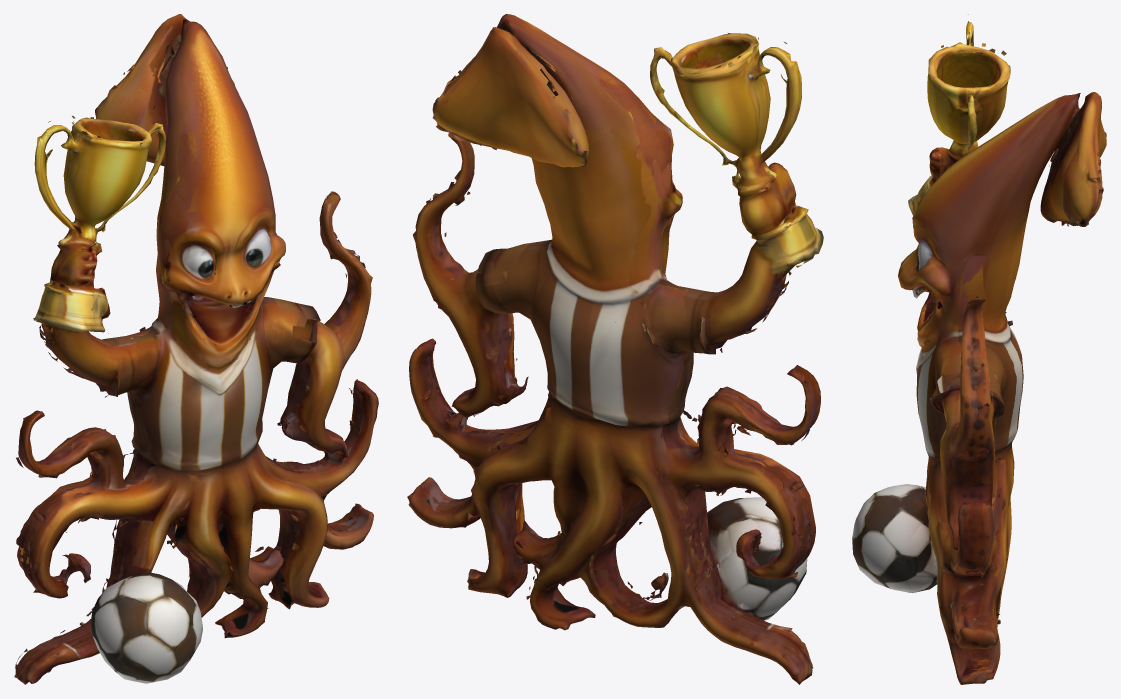
File: asset.glb
3 renders of one model, left to right at view 1: azimuth 30°, elevation 25°; view 2: azimuth 150°, elevation 25°; view 3: azimuth 270°, elevation 25°, orthographic. The views are drawn at different scales.
Bounding box in the file's own units: 1.28 × 1.98 × 0.8115.
1 material, 1 textured.
